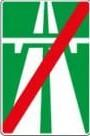road_sign: (1, 0, 90, 136)
